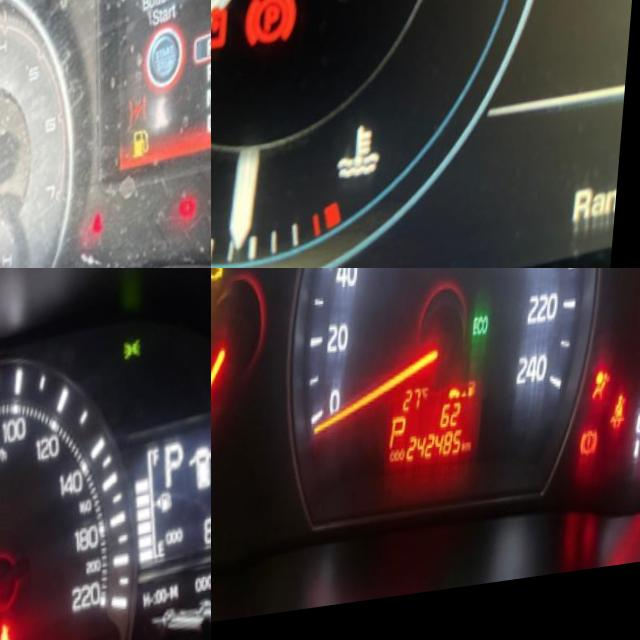Low fuel level: (135, 133, 160, 173)
